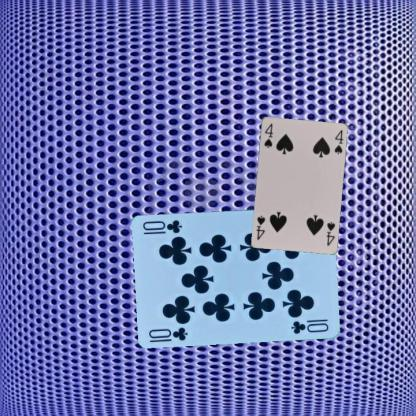10c: (146, 324, 190, 342)
4s: (261, 121, 275, 150), (324, 218, 336, 247)
